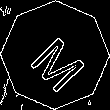M_NE: (21, 21, 89, 89)
